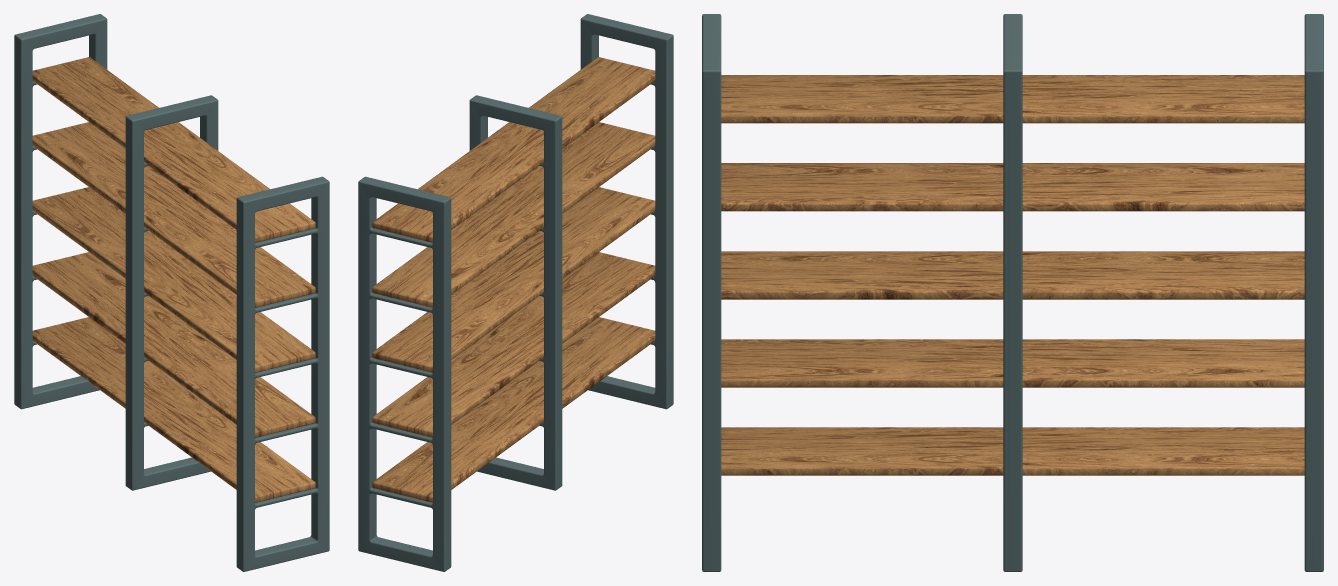
The model's file is Shelf.fbx.
3 views of the same model, side by side, from view 1: azimuth 30°, elevation 25°; view 2: azimuth 150°, elevation 25°; view 3: azimuth 270°, elevation 25° (orthographic). The views are drawn at different scales.
Parts seen in each view (by area): view 1: Shelf; view 2: Shelf; view 3: Shelf.
Boxes of the visible parts, x1,y1,x2,y2 form: Shelf: [14, 14, 329, 571]; Shelf: [358, 14, 673, 571]; Shelf: [702, 14, 1323, 571].
Size of the model in its own units: 320 by 285 by 70.
1 material, 1 textured.
